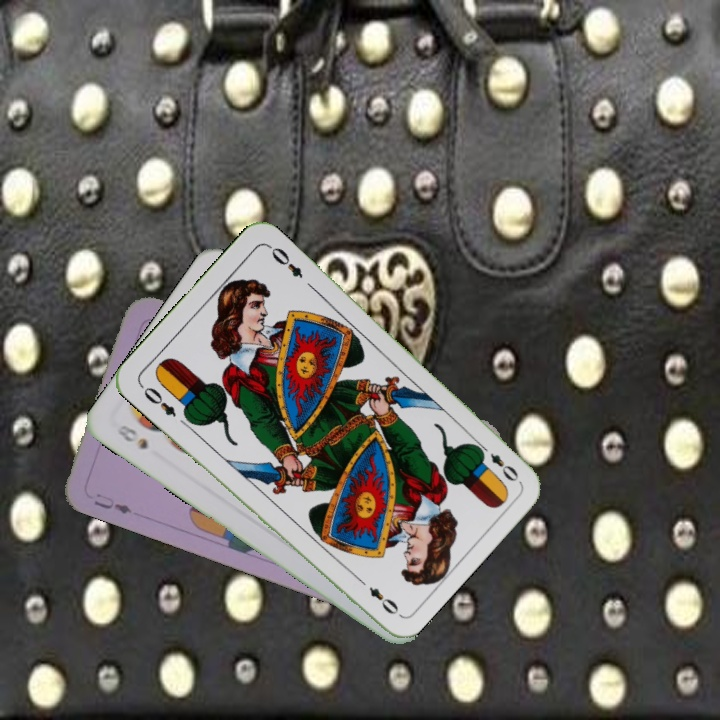EO: (473, 439, 522, 485), (136, 381, 179, 420)
EU: (90, 489, 135, 517)
S8: (112, 421, 151, 452)
